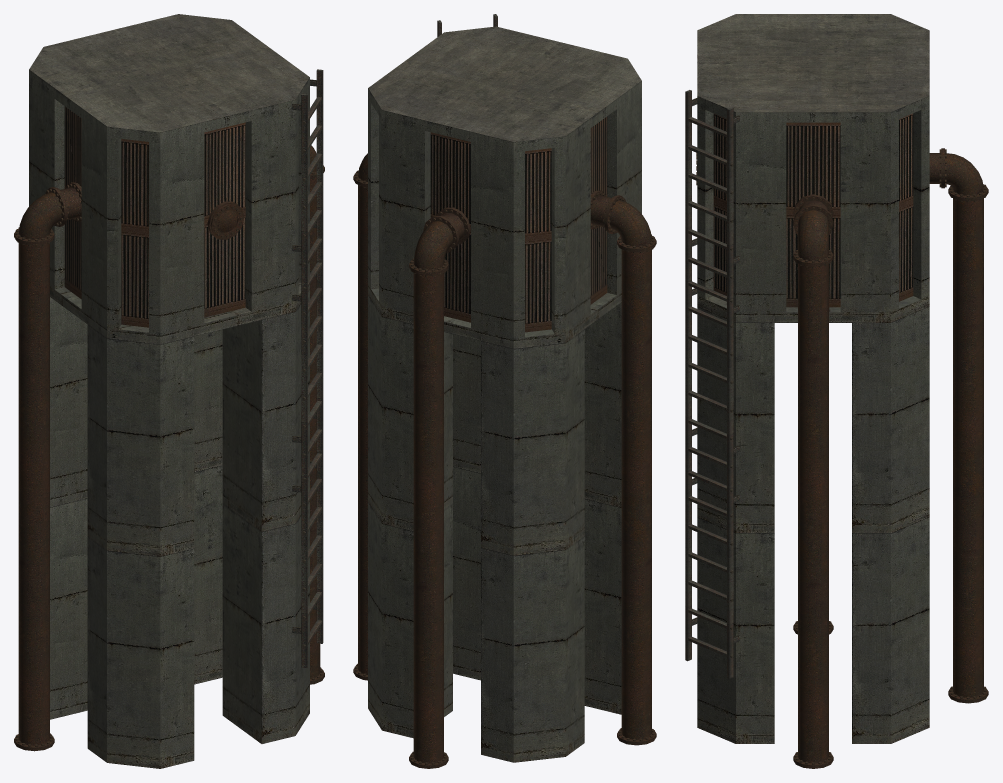
The model's file is boiler_hx_4.glb.
3 views of the same model, side by side, from view 1: azimuth 30°, elevation 25°; view 2: azimuth 150°, elevation 25°; view 3: azimuth 270°, elevation 25° (orthographic). The views are drawn at different scales.
Parts seen in each view (by area): view 1: boiler_hx_4; view 2: boiler_hx_4; view 3: boiler_hx_4.
Boxes of the visible parts, x1,y1,x2,y2 form: boiler_hx_4: (14,14,324,768); boiler_hx_4: (353,14,656,768); boiler_hx_4: (685,14,988,768).
Bounding box in the file's own units: 4.52 × 9.1 × 3.91.
5 materials, 5 textured.
